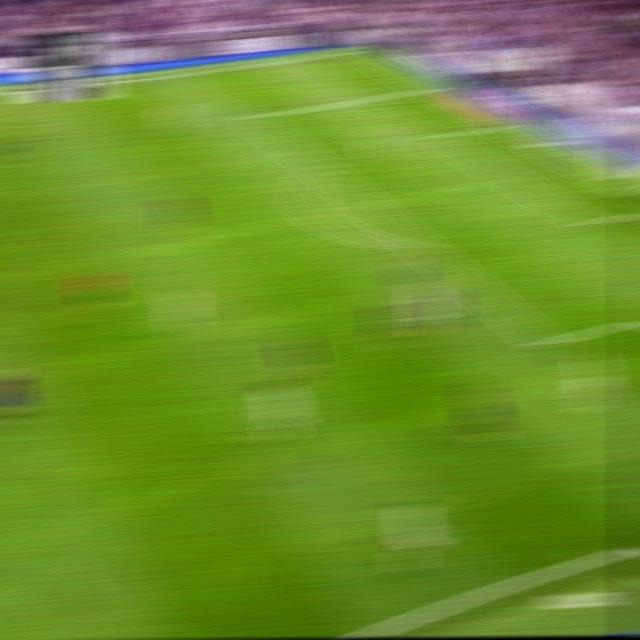bigarea_bottom_inner: (534, 329, 562, 355)
bigarea_top_inner: (243, 108, 269, 125)
bigarea_top_outter: (415, 80, 440, 93)
bottom_arc_area_intersection: (406, 234, 433, 254)
corner: (345, 45, 370, 55)
smallarea_bottom_inner: (578, 213, 603, 233)
smallarea_top_inner: (429, 131, 455, 144)
top_arc_area_intersection: (309, 160, 334, 175)
